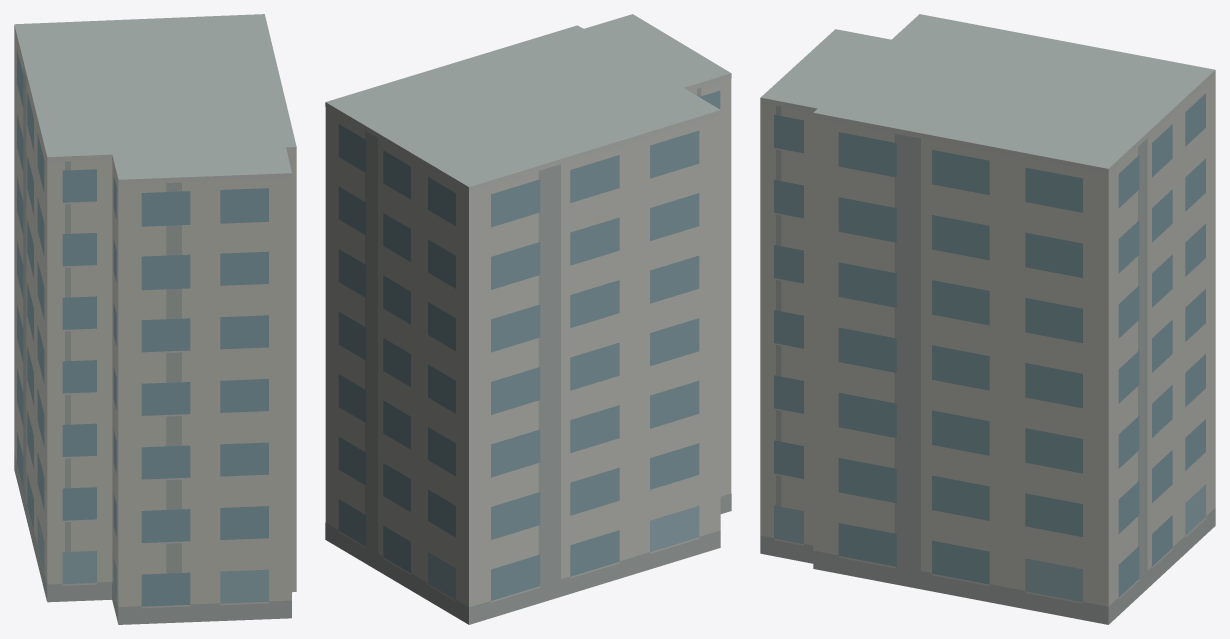
Rendered from survey-upis-32740300.glb.
3 renders of one model, left to right at view 1: azimuth 30°, elevation 25°; view 2: azimuth 150°, elevation 25°; view 3: azimuth 270°, elevation 25°, orthographic. The views are drawn at different scales.
Parts seen in each view (by area): view 1: survey-upis-32740300.tmp; view 2: survey-upis-32740300.tmp; view 3: survey-upis-32740300.tmp.
Part boxes in pixels (box(x1,y1,x2,y2)): survey-upis-32740300.tmp: box(14, 14, 296, 624); survey-upis-32740300.tmp: box(325, 14, 731, 624); survey-upis-32740300.tmp: box(760, 14, 1215, 624).
Bounding box in the file's own units: 15.38 × 21.1 × 19.09.
